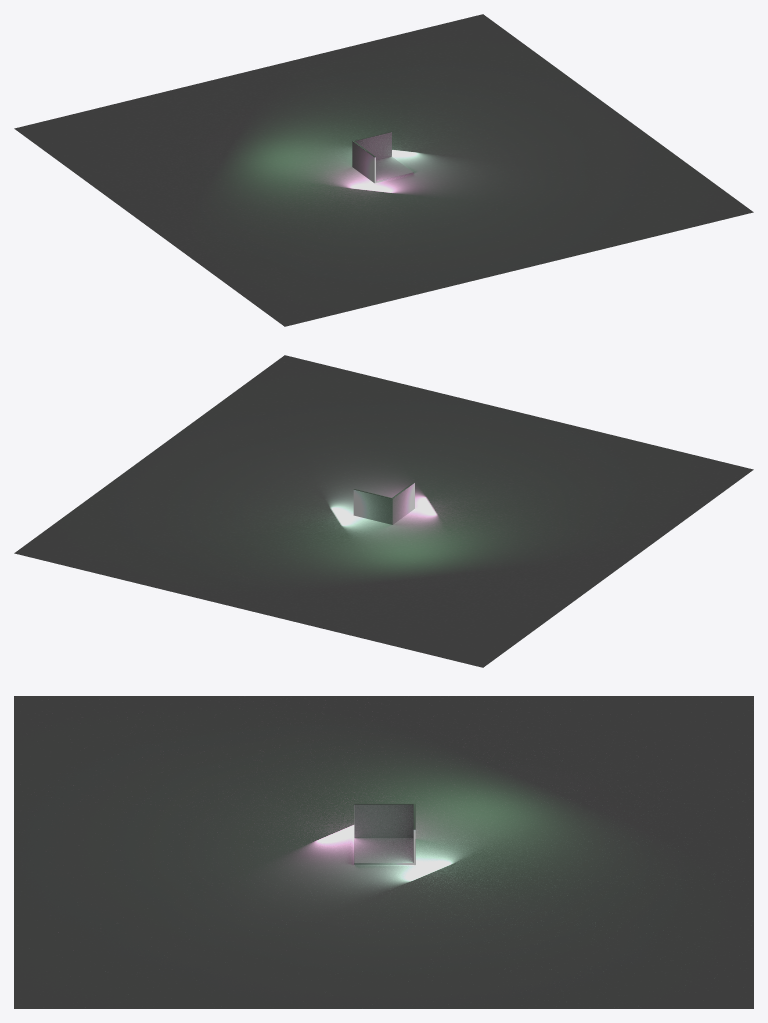
Rendered from cabin.glb.
The picture shows the model from 3 angles, top to bottom: view 1: azimuth 30°, elevation 25°; view 2: azimuth 150°, elevation 25°; view 3: azimuth 270°, elevation 25°; orthographic projection. The views are drawn at different scales.
Visible parts, largest first — view 1: Plane; view 2: Plane; view 3: Plane.
Part boxes in pixels (left/top/right/bottom): Plane: left=14, top=14, right=753, bottom=326; Plane: left=14, top=355, right=753, bottom=667; Plane: left=14, top=696, right=753, bottom=1008.
Size of the model in its own units: 100 by 5.3 by 100.
Materials: 1 (1 with a texture image).
